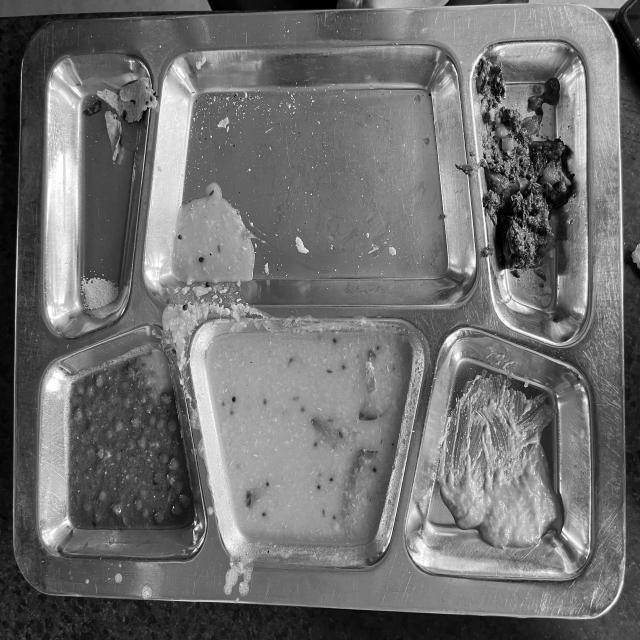20.8- Food Left: (32, 28, 605, 585)
